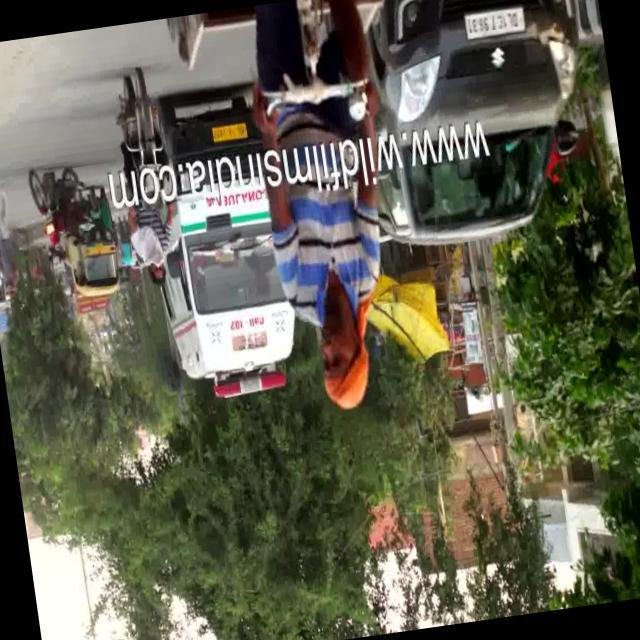ambulance: (165, 192, 299, 388)
